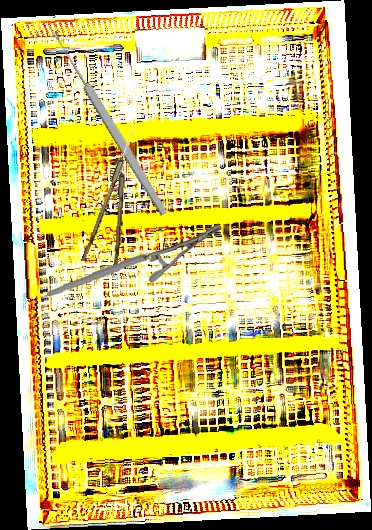Needle Holder: (44, 222, 225, 297)
Surgical Spoon: (49, 28, 170, 218), (81, 122, 138, 263), (113, 140, 127, 273)
